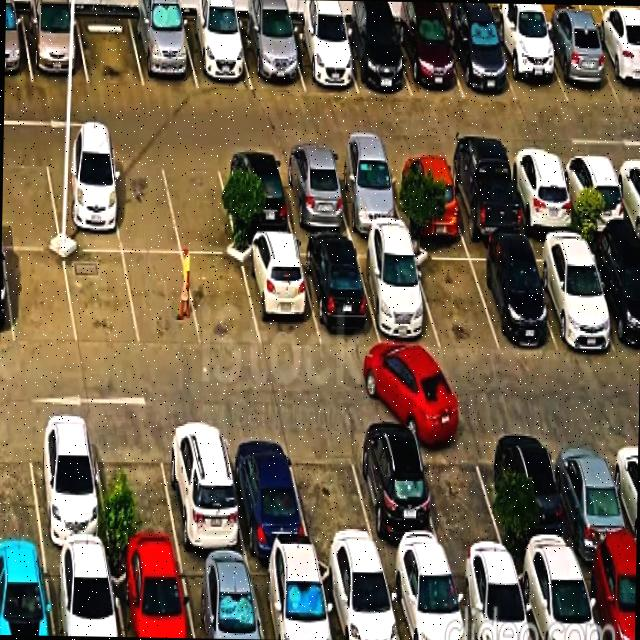empty: (417, 428, 509, 561), (286, 429, 379, 558), (92, 422, 180, 555), (411, 245, 499, 349), (160, 152, 237, 254), (106, 151, 180, 251), (64, 251, 139, 348), (123, 253, 201, 346), (183, 256, 260, 348), (4, 249, 77, 344), (1, 148, 60, 247), (0, 420, 42, 551), (76, 13, 144, 86)
occupied: (348, 428, 446, 560), (159, 422, 246, 556), (548, 428, 636, 558), (223, 426, 311, 555), (493, 427, 578, 560), (26, 419, 110, 553), (527, 240, 617, 348), (466, 245, 555, 349), (354, 242, 440, 348), (239, 241, 320, 348), (297, 241, 380, 345), (44, 150, 122, 251), (178, 558, 263, 639), (110, 556, 193, 638), (443, 155, 524, 239), (514, 559, 598, 640), (248, 559, 332, 640), (382, 561, 467, 640), (317, 559, 399, 640), (448, 561, 532, 640), (45, 554, 123, 637), (538, 24, 619, 103), (217, 153, 294, 236), (585, 240, 640, 355), (387, 154, 464, 236), (276, 153, 352, 235), (329, 153, 405, 233), (491, 25, 568, 103), (505, 154, 579, 233), (558, 153, 631, 233), (444, 20, 516, 100), (393, 20, 463, 97), (339, 23, 411, 96), (181, 17, 252, 89), (129, 14, 197, 89), (287, 23, 357, 93), (578, 557, 636, 640), (21, 12, 88, 83), (238, 22, 304, 89), (0, 554, 53, 635), (591, 27, 640, 103), (4, 12, 32, 81)
